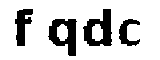c: (118, 16, 144, 50)
d: (82, 5, 115, 51)
f: (8, 3, 37, 53)
q: (46, 15, 81, 60)
